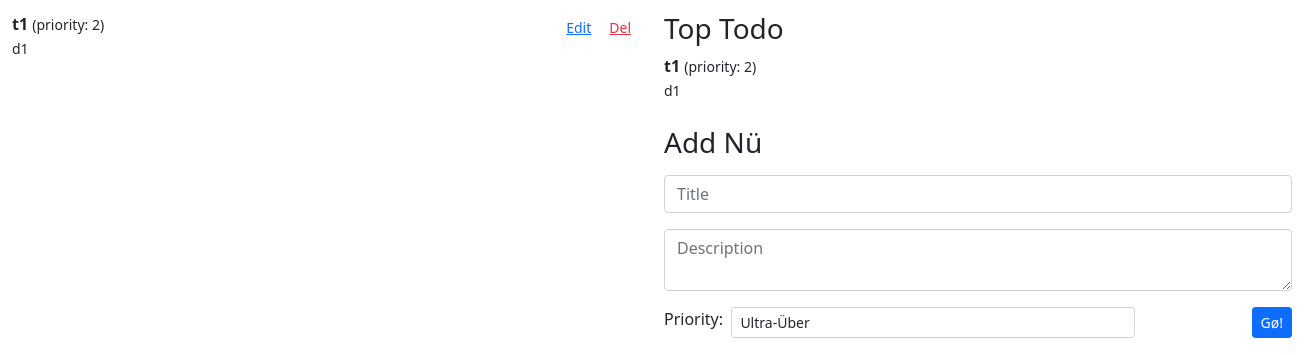
Test: works › should remove todo when delete clicked
The width and height of the screenshot is (1304, 355).
Check: the element with class "EditableTodo" is shown, box [12,12,640,60]
Click the button with class "EditableTodo-delBtn": (620, 28) [600,12,640,43]
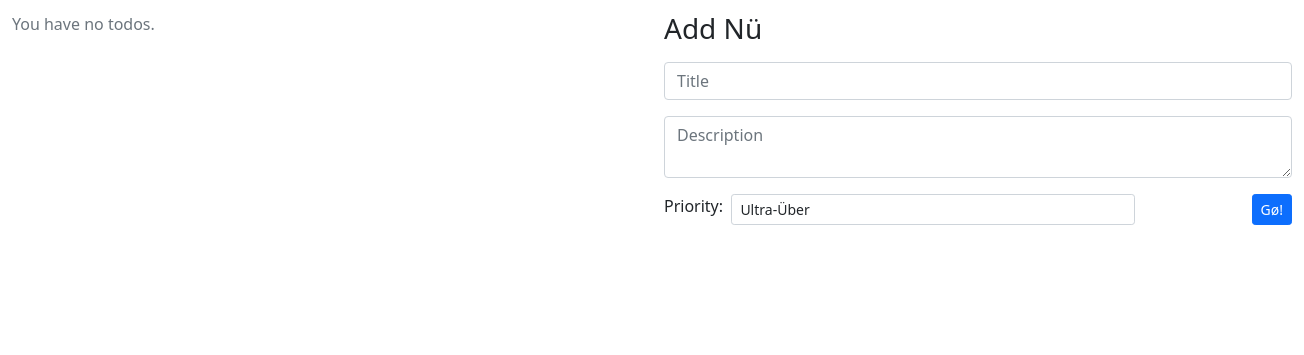
Check: the element with class "EditableTodo" is gone
